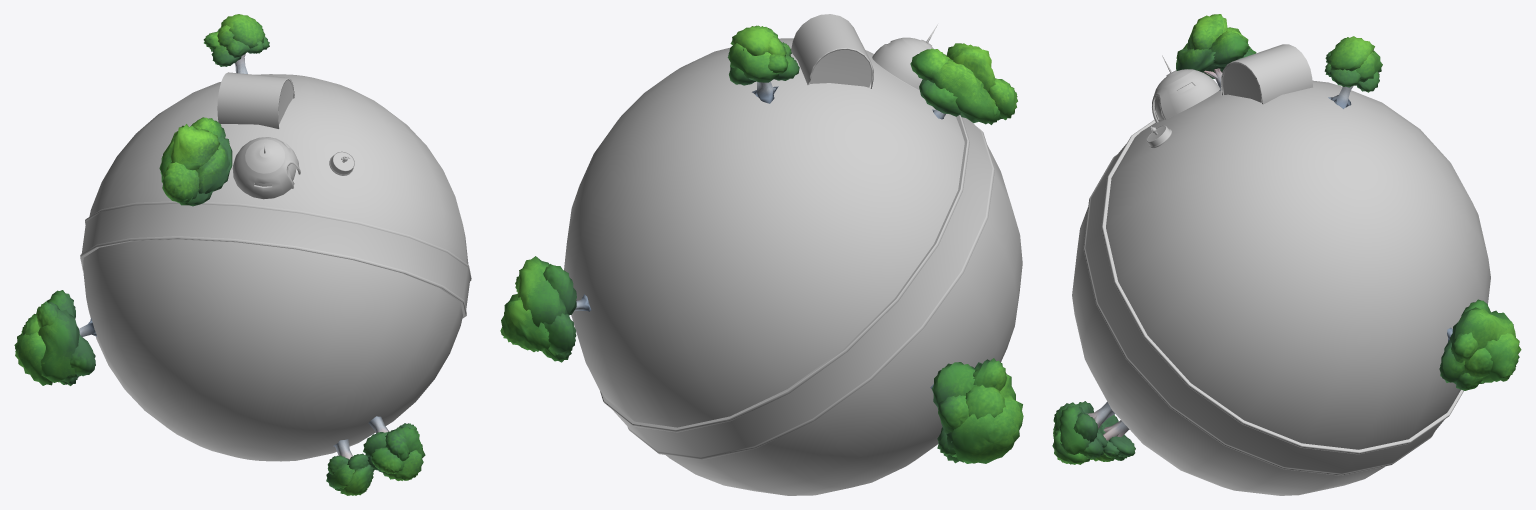
3 renders of one model, left to right at view 1: azimuth 30°, elevation 25°; view 2: azimuth 150°, elevation 25°; view 3: azimuth 270°, elevation 25°, orthographic. The views are drawn at different scales.
Visible parts, largest first — view 1: Globe, Trees, Road, Garage, House, Trunks; view 2: Globe, Trees, Road, Garage, House, Trunks; view 3: Globe, Road, Trees, Garage, House, Trunks.
Part boxes in pixels (box(x1,y1,x2,y2)): Globe: box(83, 74, 468, 461); Trees: box(14, 14, 425, 495); Road: box(80, 201, 471, 318); Garage: box(217, 72, 294, 128); House: box(232, 137, 300, 199); Trunks: box(79, 53, 388, 459); Globe: box(564, 38, 1022, 495); Trees: box(500, 25, 1023, 463); Road: box(600, 115, 994, 459); Garage: box(791, 14, 873, 88); House: box(872, 24, 937, 90); Trunks: box(574, 81, 945, 388); Globe: box(1072, 80, 1490, 495); Road: box(1083, 120, 1463, 475); Trees: box(1052, 14, 1521, 464); Garage: box(1221, 44, 1312, 104); House: box(1152, 55, 1220, 123); Trunks: box(1086, 68, 1452, 440).
Size of the model in its own units: 9.32 by 9.19 by 8.95.
